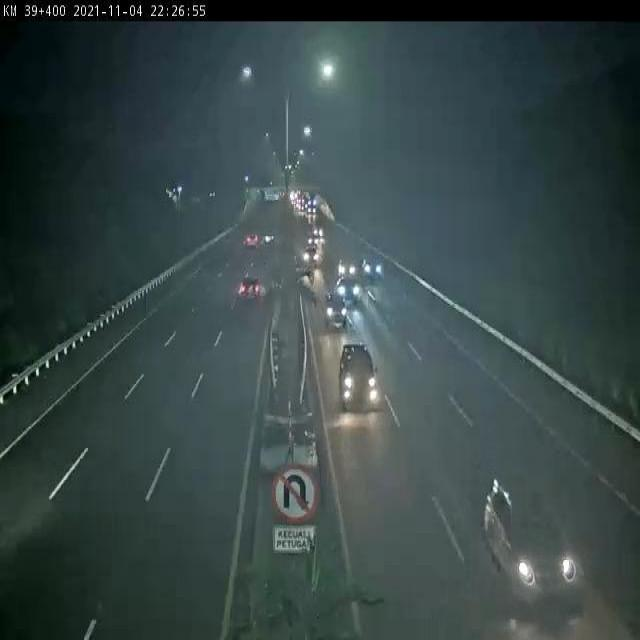car: (481, 476, 584, 601), (338, 340, 380, 407), (236, 275, 264, 304), (324, 292, 347, 325), (359, 256, 386, 283), (337, 276, 360, 303), (336, 258, 358, 282), (302, 244, 321, 267)
